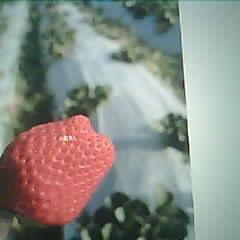straw-ripe: (0, 114, 113, 226)
